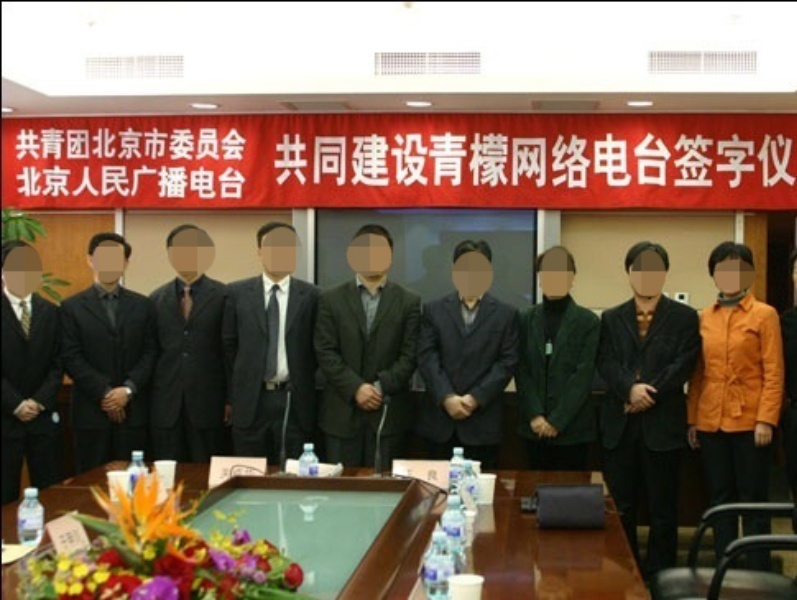text: (289, 132, 304, 194), (305, 132, 320, 194), (321, 132, 336, 194), (337, 132, 352, 194), (353, 132, 368, 194), (369, 132, 384, 194), (385, 132, 400, 194), (401, 132, 416, 194), (417, 132, 432, 194), (433, 132, 448, 194), (449, 132, 464, 194), (465, 132, 480, 194), (481, 132, 496, 194), (497, 132, 512, 194), (513, 132, 528, 194), (529, 132, 544, 194), (545, 132, 560, 194), (561, 132, 576, 194), (577, 132, 592, 194), (593, 132, 608, 194), (609, 132, 624, 194), (625, 132, 640, 194), (641, 132, 656, 194), (657, 132, 672, 194), (673, 132, 688, 194), (689, 132, 704, 194), (705, 132, 720, 194), (721, 132, 736, 194), (737, 132, 752, 194), (753, 132, 768, 194), (769, 132, 784, 194), (275, 132, 288, 194), (785, 132, 796, 194), (17, 163, 32, 201), (33, 163, 48, 201), (49, 163, 64, 201), (65, 163, 80, 201), (81, 163, 96, 201), (97, 163, 112, 201), (113, 163, 128, 201), (129, 163, 144, 201), (145, 163, 160, 201), (161, 163, 176, 201), (177, 163, 192, 201), (193, 163, 208, 201), (209, 163, 224, 201), (225, 163, 240, 201), (17, 129, 32, 162), (33, 129, 48, 162), (49, 129, 64, 162), (65, 129, 80, 162), (81, 129, 96, 162), (97, 129, 112, 162), (113, 129, 128, 162), (129, 129, 144, 162), (145, 129, 160, 162), (161, 129, 176, 162), (177, 129, 192, 162), (193, 129, 208, 162), (209, 129, 224, 162), (225, 129, 240, 162), (65, 527, 80, 551), (241, 129, 249, 162), (241, 163, 247, 201), (10, 129, 16, 162), (241, 467, 257, 479), (417, 469, 432, 481), (225, 467, 240, 479), (12, 163, 16, 201), (58, 527, 64, 551), (406, 469, 416, 481), (81, 527, 86, 551), (433, 469, 441, 481), (221, 467, 224, 479)
